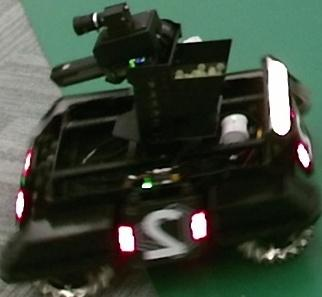armor_2: (117, 212, 208, 253)
left_2: (135, 203, 195, 261)
light: (266, 55, 291, 136)
